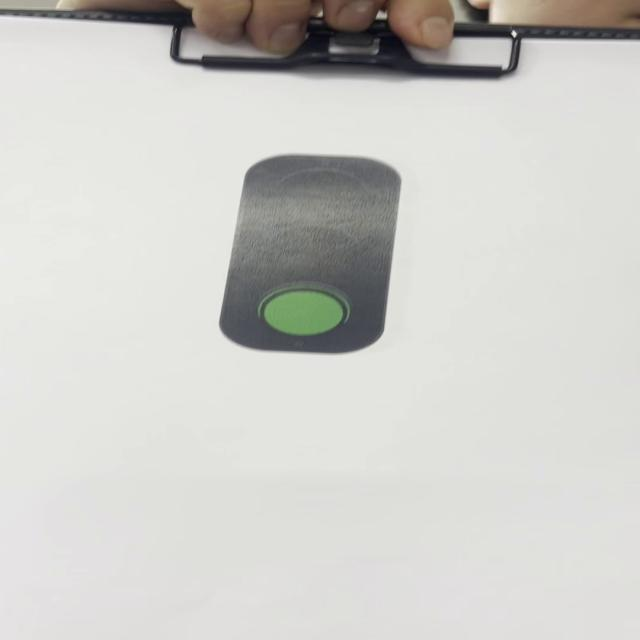green: (213, 152, 408, 357)
